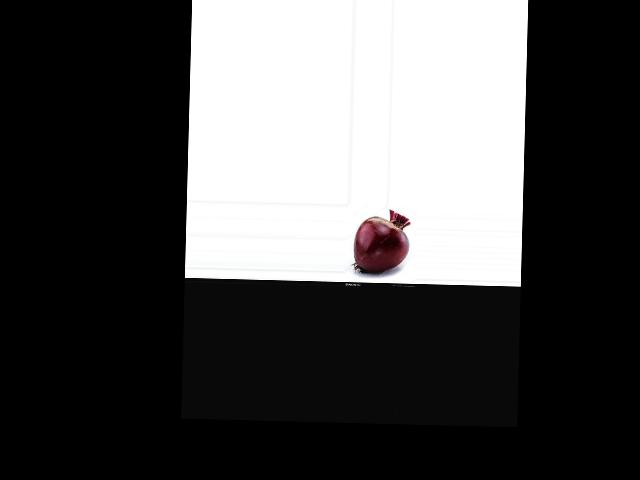beet: (353, 209, 410, 272)
